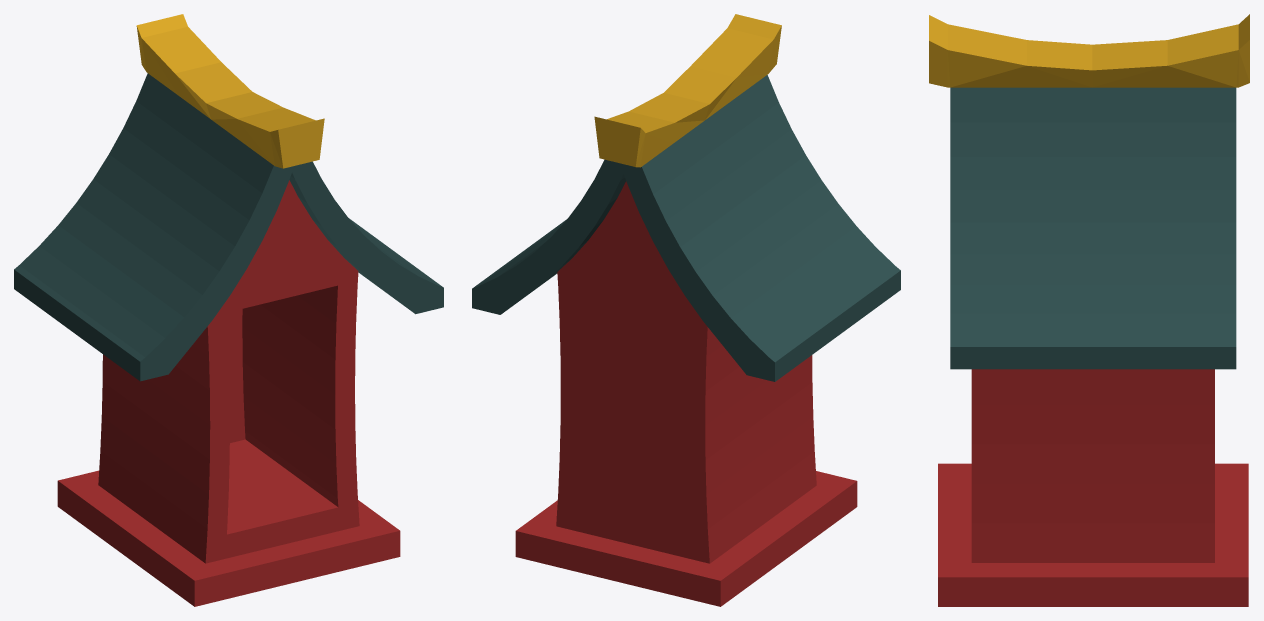
Rendered from Asian_Prop_Shrine_Small_01.FBX.
3 views of the same model, side by side, from view 1: azimuth 30°, elevation 25°; view 2: azimuth 150°, elevation 25°; view 3: azimuth 270°, elevation 25° (orthographic). The views are drawn at different scales.
Visible parts, largest first — view 1: Asian_Prop_Shrine_Small_01; view 2: Asian_Prop_Shrine_Small_01; view 3: Asian_Prop_Shrine_Small_01.
Boxes of the visible parts, left/top/right/bottom form: Asian_Prop_Shrine_Small_01: left=14, top=14, right=443, bottom=606; Asian_Prop_Shrine_Small_01: left=472, top=14, right=900, bottom=606; Asian_Prop_Shrine_Small_01: left=929, top=14, right=1249, bottom=606.
Bounding box in the file's own units: 1834 × 2663 × 1480.
